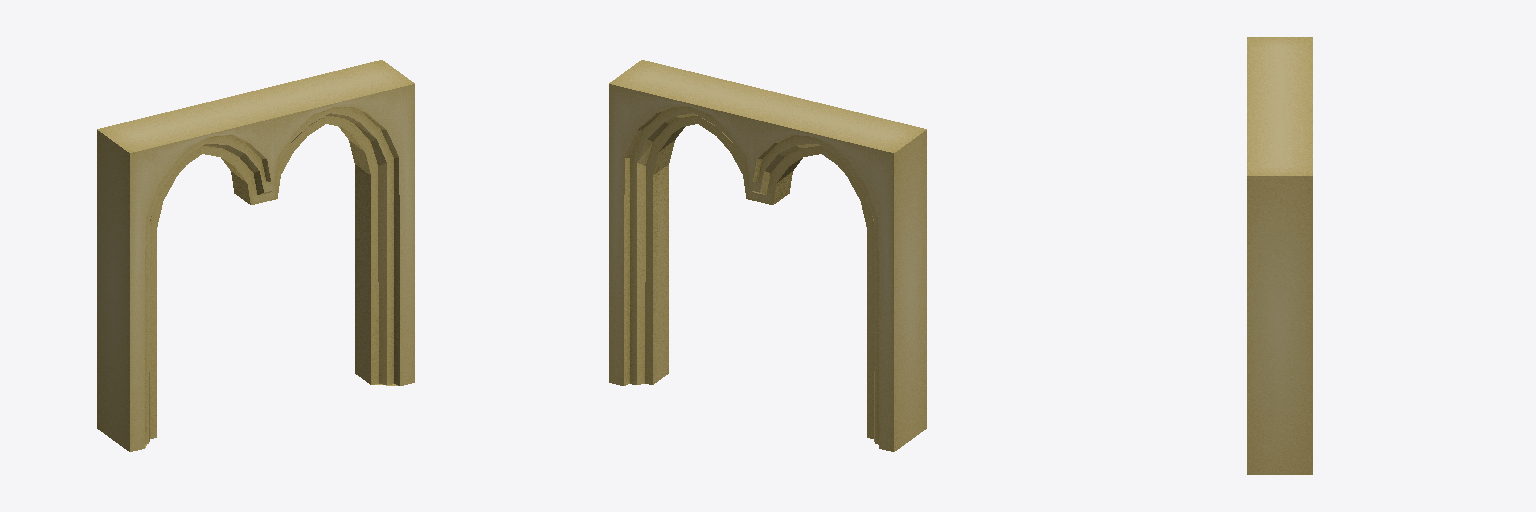
3 views of the same model, side by side, from view 1: azimuth 30°, elevation 25°; view 2: azimuth 150°, elevation 25°; view 3: azimuth 270°, elevation 25° (orthographic).
Visible parts, largest first — view 1: Circle; view 2: Circle; view 3: Circle.
Part boxes in pixels (x1,y1,x2,y2): Circle: (97,60,414,451); Circle: (609,60,926,451); Circle: (1247,37,1312,474).
Size of the model in its own units: 2 by 2 by 0.4.
1 materials, 1 textured.